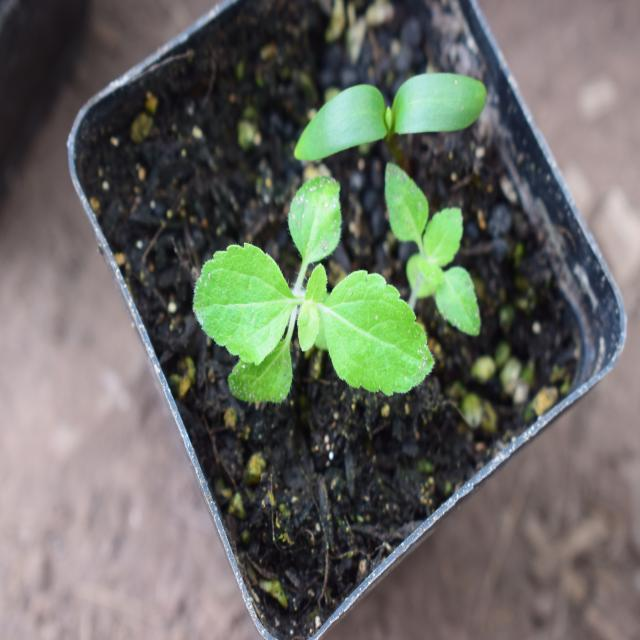billygoat_weed: (190, 202, 429, 446), (370, 158, 500, 340)
